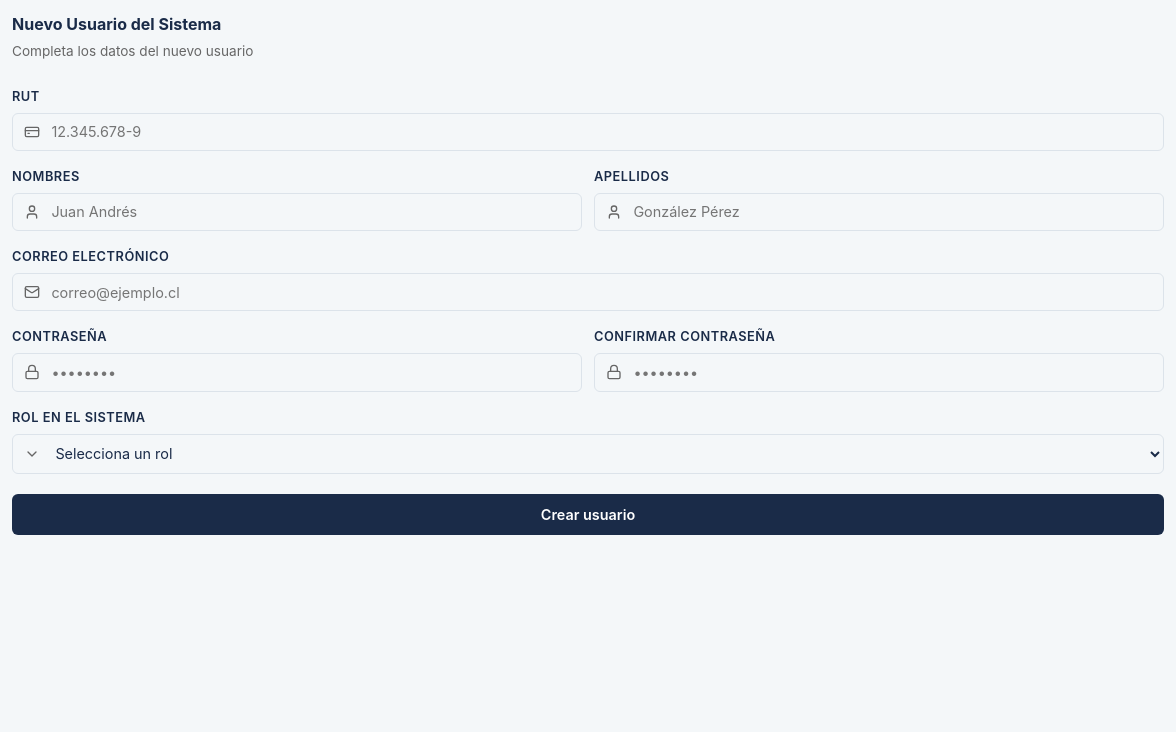
FormularioUsuarioAdmin — modo creación › muestra error cuando las contraseñas no coinciden
Step 1. Type "12345678-9" into the field labelled "RUT" → coordinates (607, 132), box [51,114,1163,150]
Step 2. Type "Juan" into the field labelled "Nombres" → coordinates (316, 212), box [51,194,581,230]
Step 3. Type "López" into the field labelled "Apellidos" → coordinates (898, 212), box [633,194,1163,230]
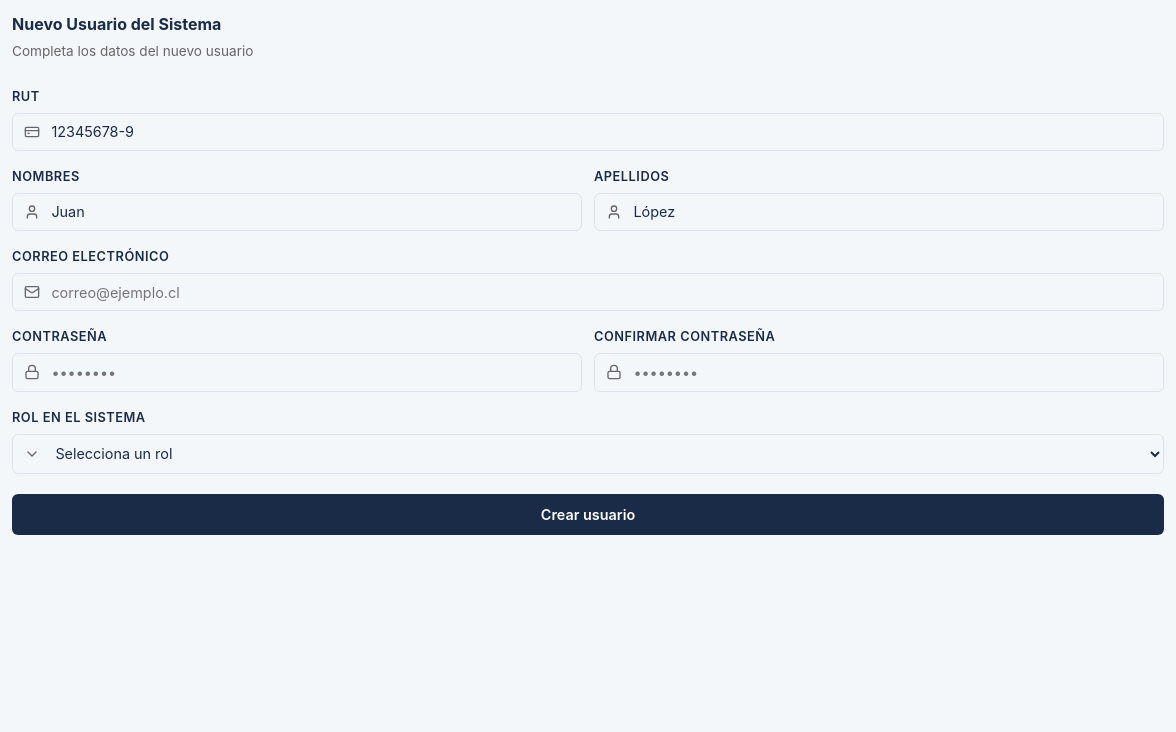
Step 4. Type "juan@test.cl" into the field labelled "Correo electrónico" → coordinates (607, 292), box [51,274,1163,310]
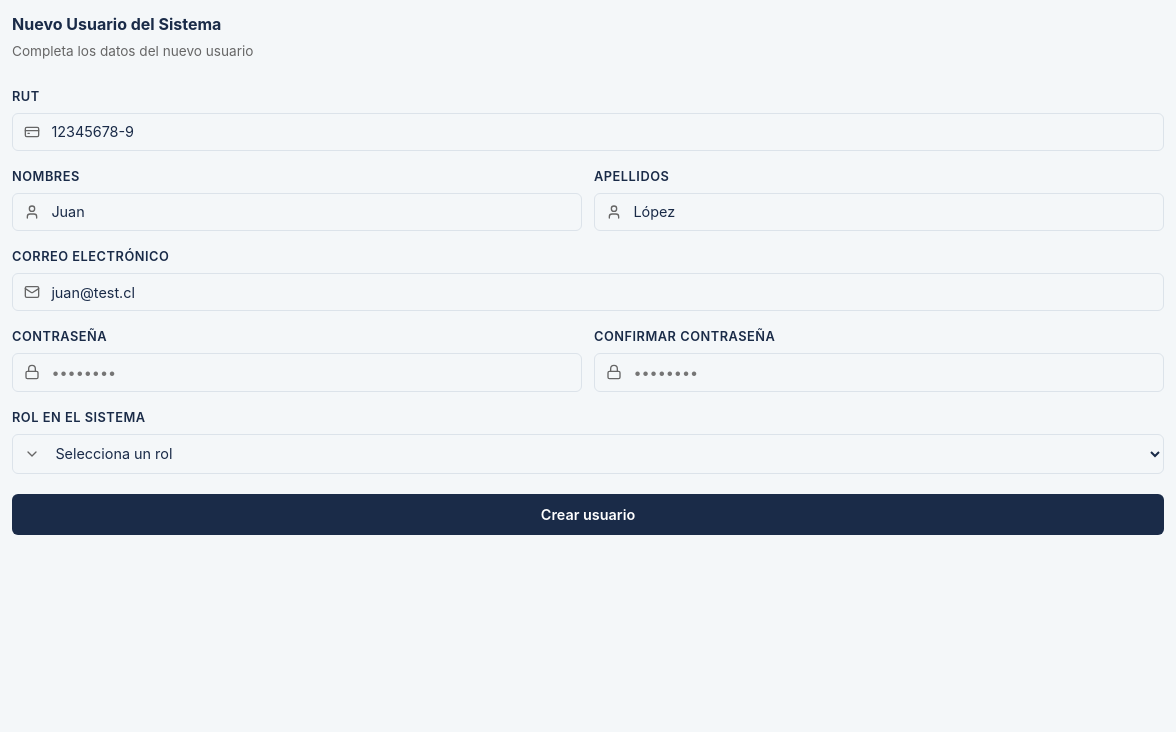
Step 5. Type "Pass123!" into the password field labelled "Contraseña" → coordinates (316, 372), box [51,354,581,390]
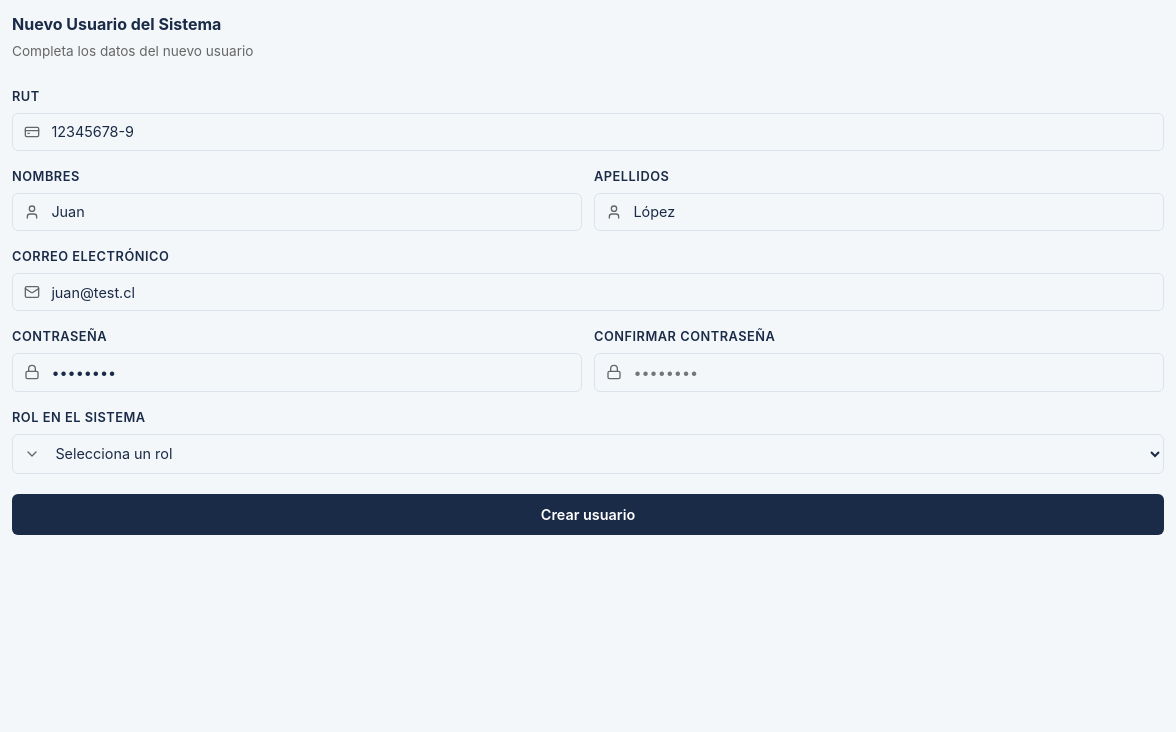
Step 6. Type "Diferente!" into the password field labelled "Confirmar contraseña" → coordinates (898, 372), box [633,354,1163,390]
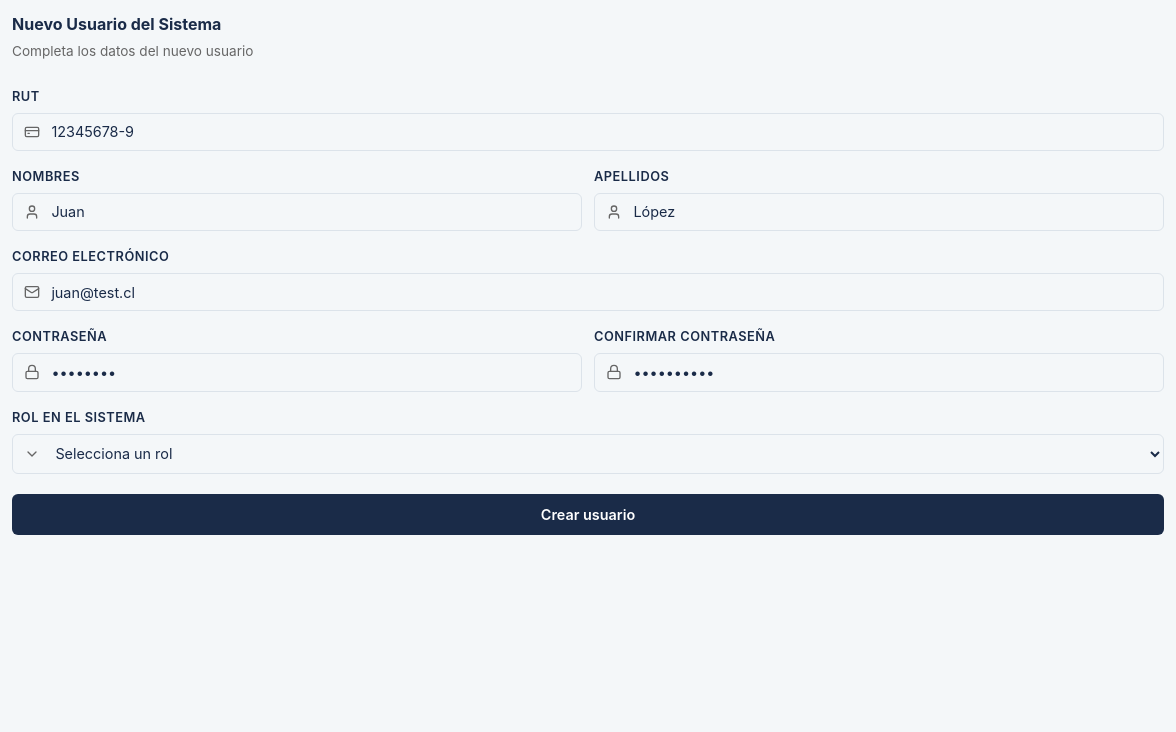
Step 7. Select "Docente" in the dropdown labelled "Rol en el sistema" → coordinates (607, 454), box [51,435,1163,473]
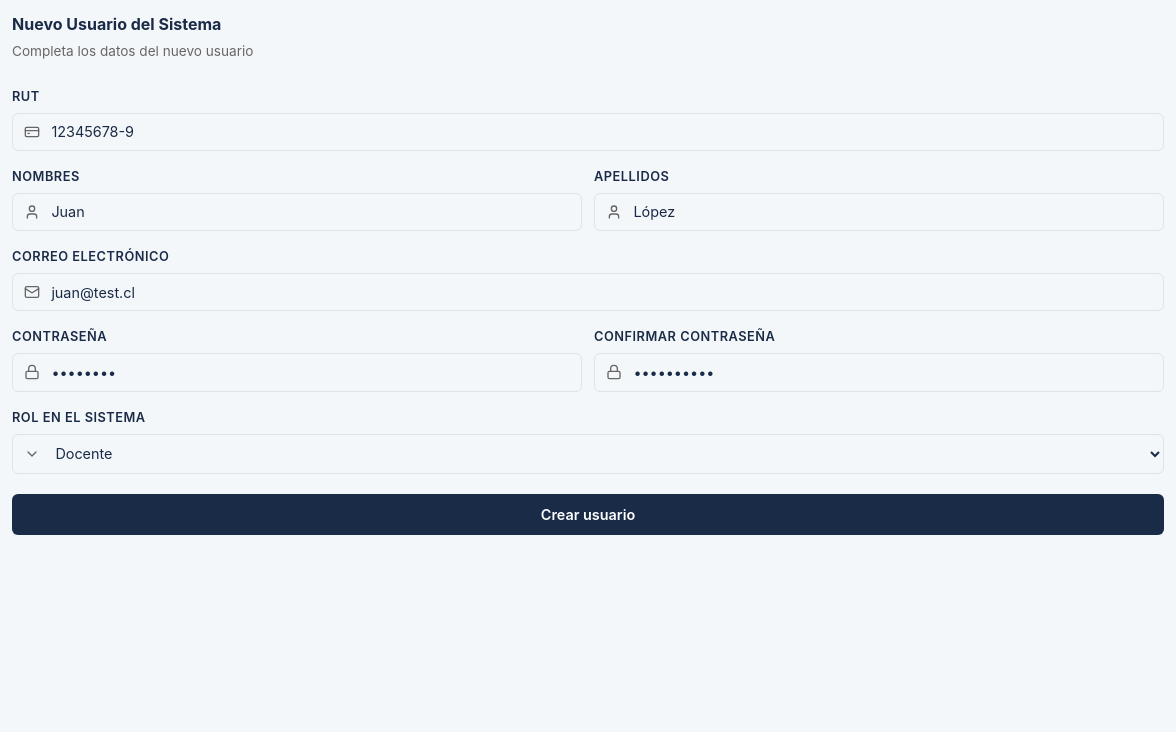
Step 8. Click the button "Crear usuario" → coordinates (588, 514), box [12,494,1164,535]
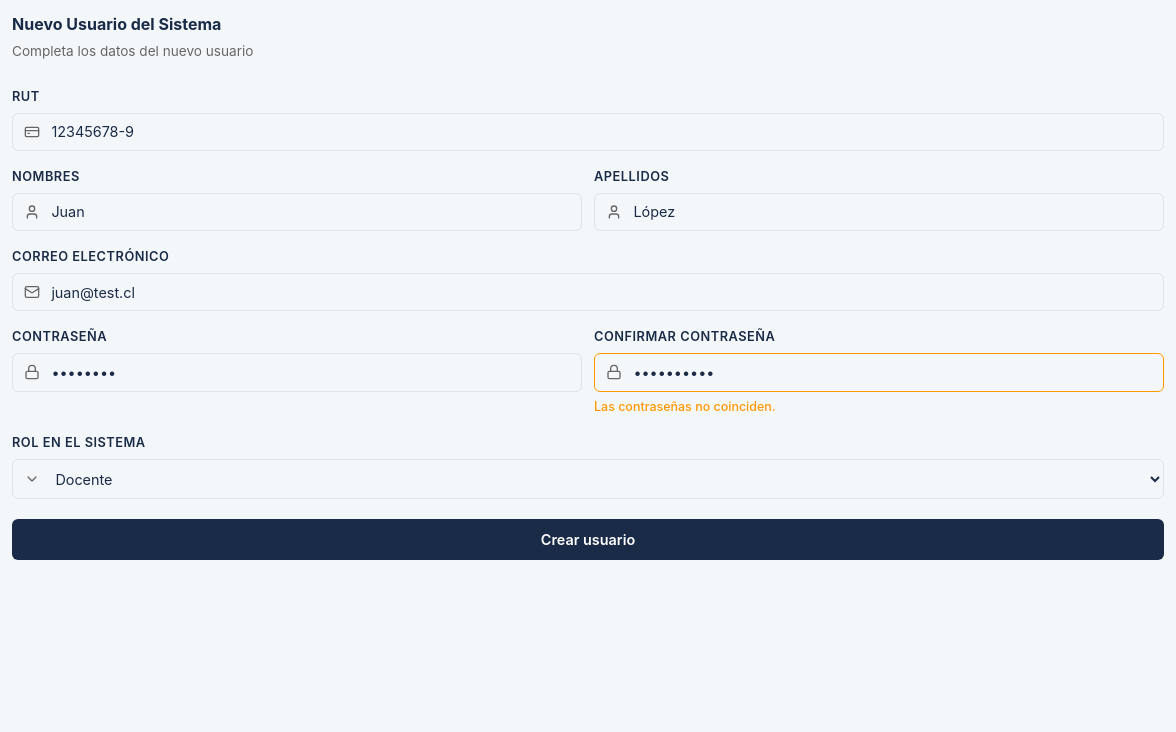
Result: the text "Las contraseñas no coinciden." is shown at [594,399,776,414]
